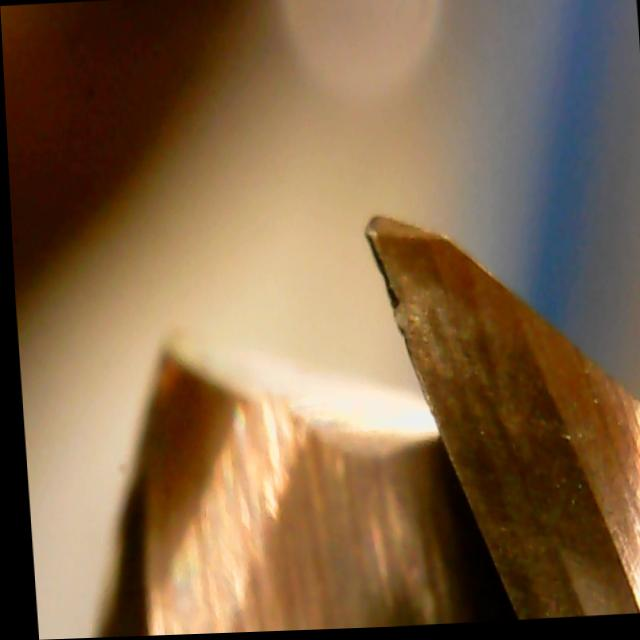Tool-wear-class-1: (338, 202, 513, 434)
